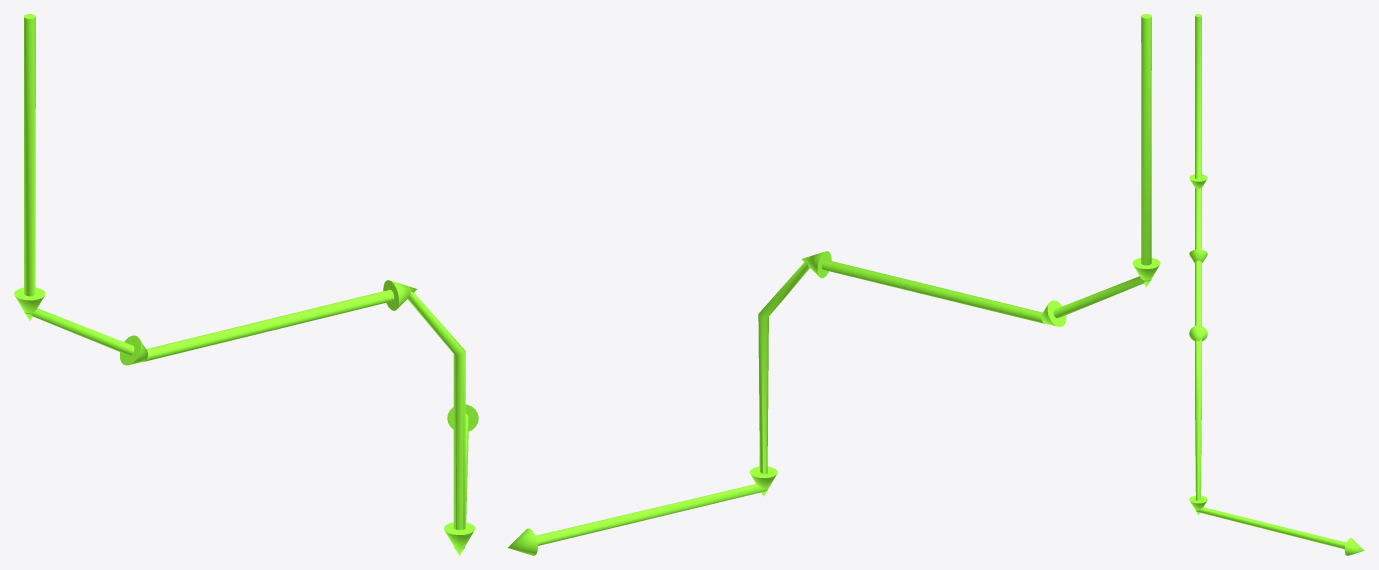
The model's file is dry_screw_vacuum_pump_flow.glb.
The picture shows the model from 3 angles, left to right: view 1: azimuth 30°, elevation 25°; view 2: azimuth 150°, elevation 25°; view 3: azimuth 270°, elevation 25°; orthographic projection. The views are drawn at different scales.
Parts seen in each view (by area): view 1: gas; view 2: gas; view 3: gas.
Part boxes in pixels (x1,y1,x2,y2): gas: [14, 14, 478, 555]; gas: [508, 14, 1160, 555]; gas: [1189, 14, 1364, 555].
Size of the model in its own units: 0.6717 by 0.7056 by 0.2959.
